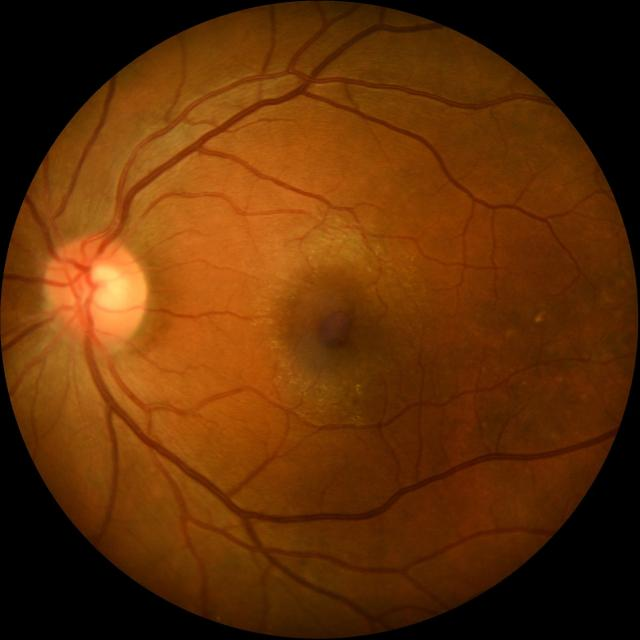OC: (81, 262, 124, 311)
OD: (47, 235, 145, 344)
